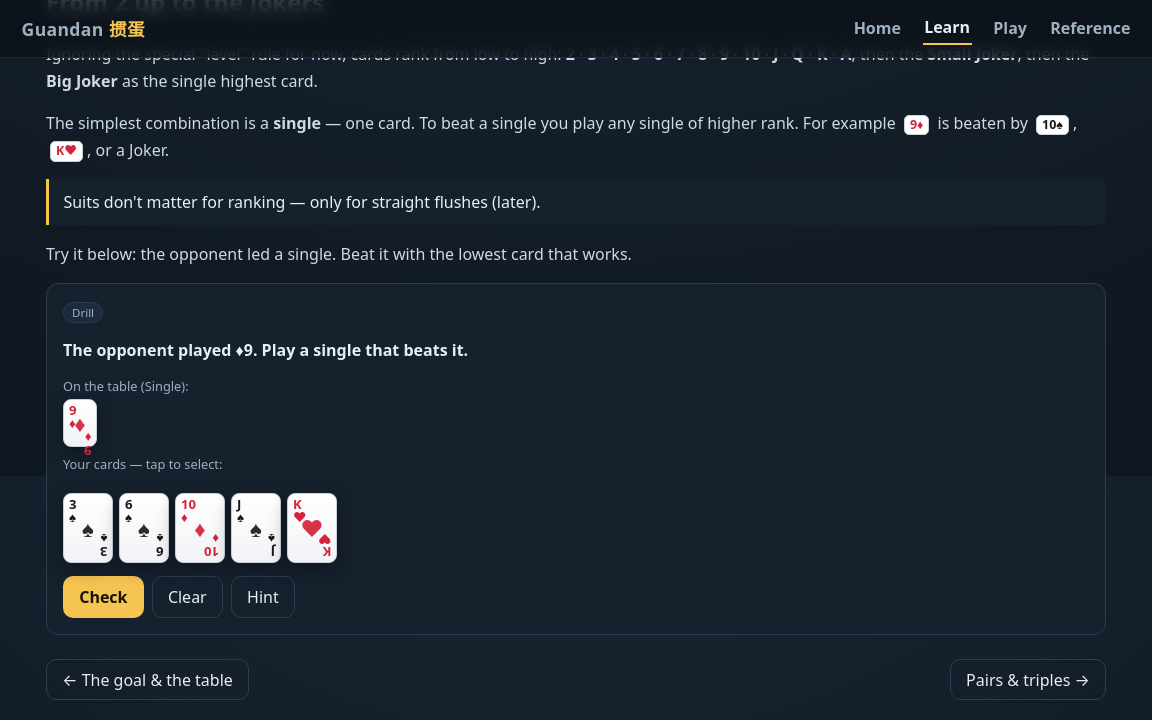
Test: UI smoke › solves a select drill through the real engine and marks the lesson complete
(page scrolled)
// Drill: beat ♦9 — selecting the ♦10 and checking should succeed.
What coordinates should you click on to do the following:
click the element titled "♦10"
I would click on:
 (200, 528)
Its box is x1=175 y1=493 x2=225 y2=563.
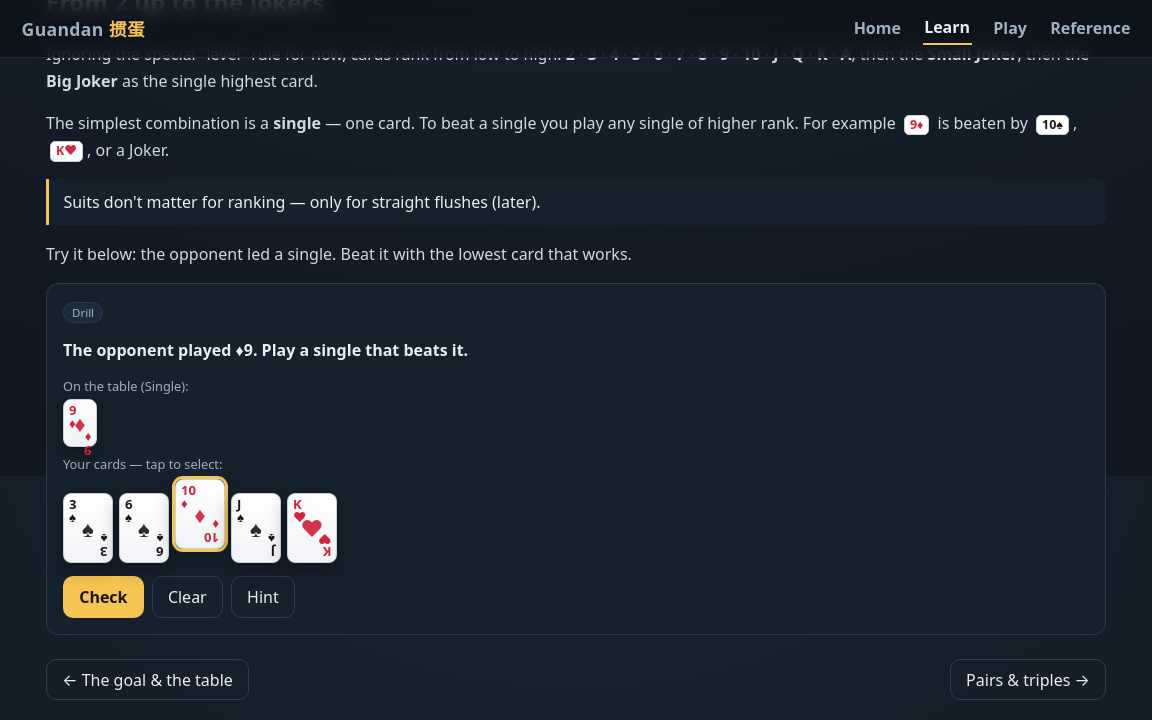
What coordinates should you click on to do the following:
click the button "Check"
I would click on:
 (103, 597)
Its box is x1=63 y1=576 x2=144 y2=618.
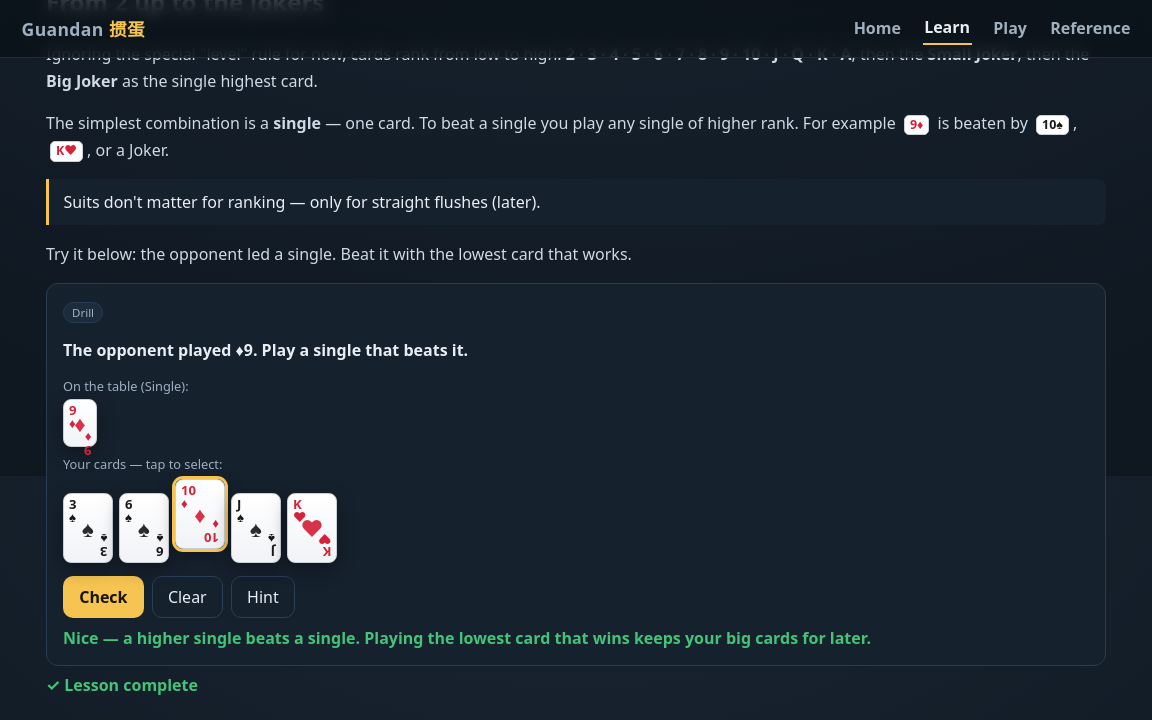
Result: the text "a higher single beats a single" is shown at x1=63 y1=627 x2=871 y2=649
Result: the text "✓ Lesson complete" is shown at x1=46 y1=674 x2=198 y2=696
